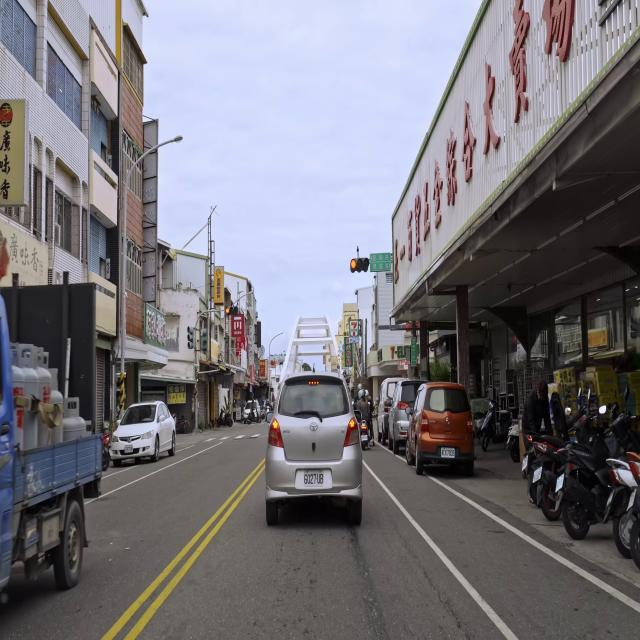red light: (350, 258, 370, 270), (225, 306, 238, 315)
